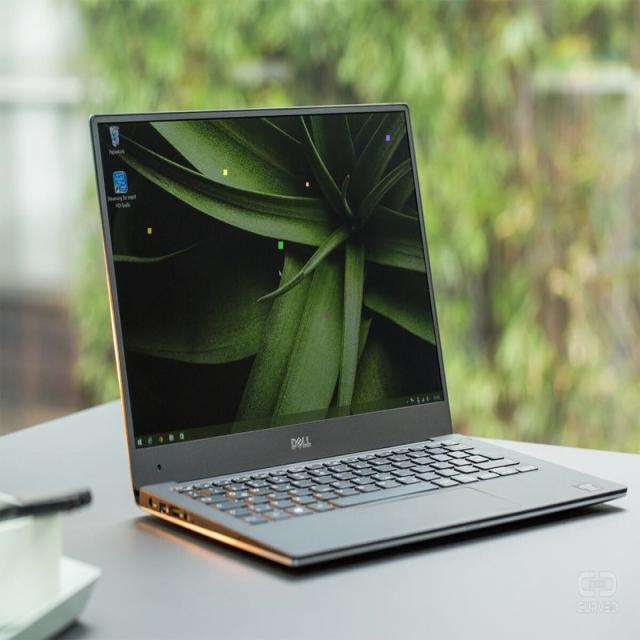dead_pixel: (278, 242, 283, 248), (325, 313, 329, 318), (223, 170, 227, 174), (386, 135, 389, 140), (148, 228, 151, 233), (306, 182, 308, 186)
